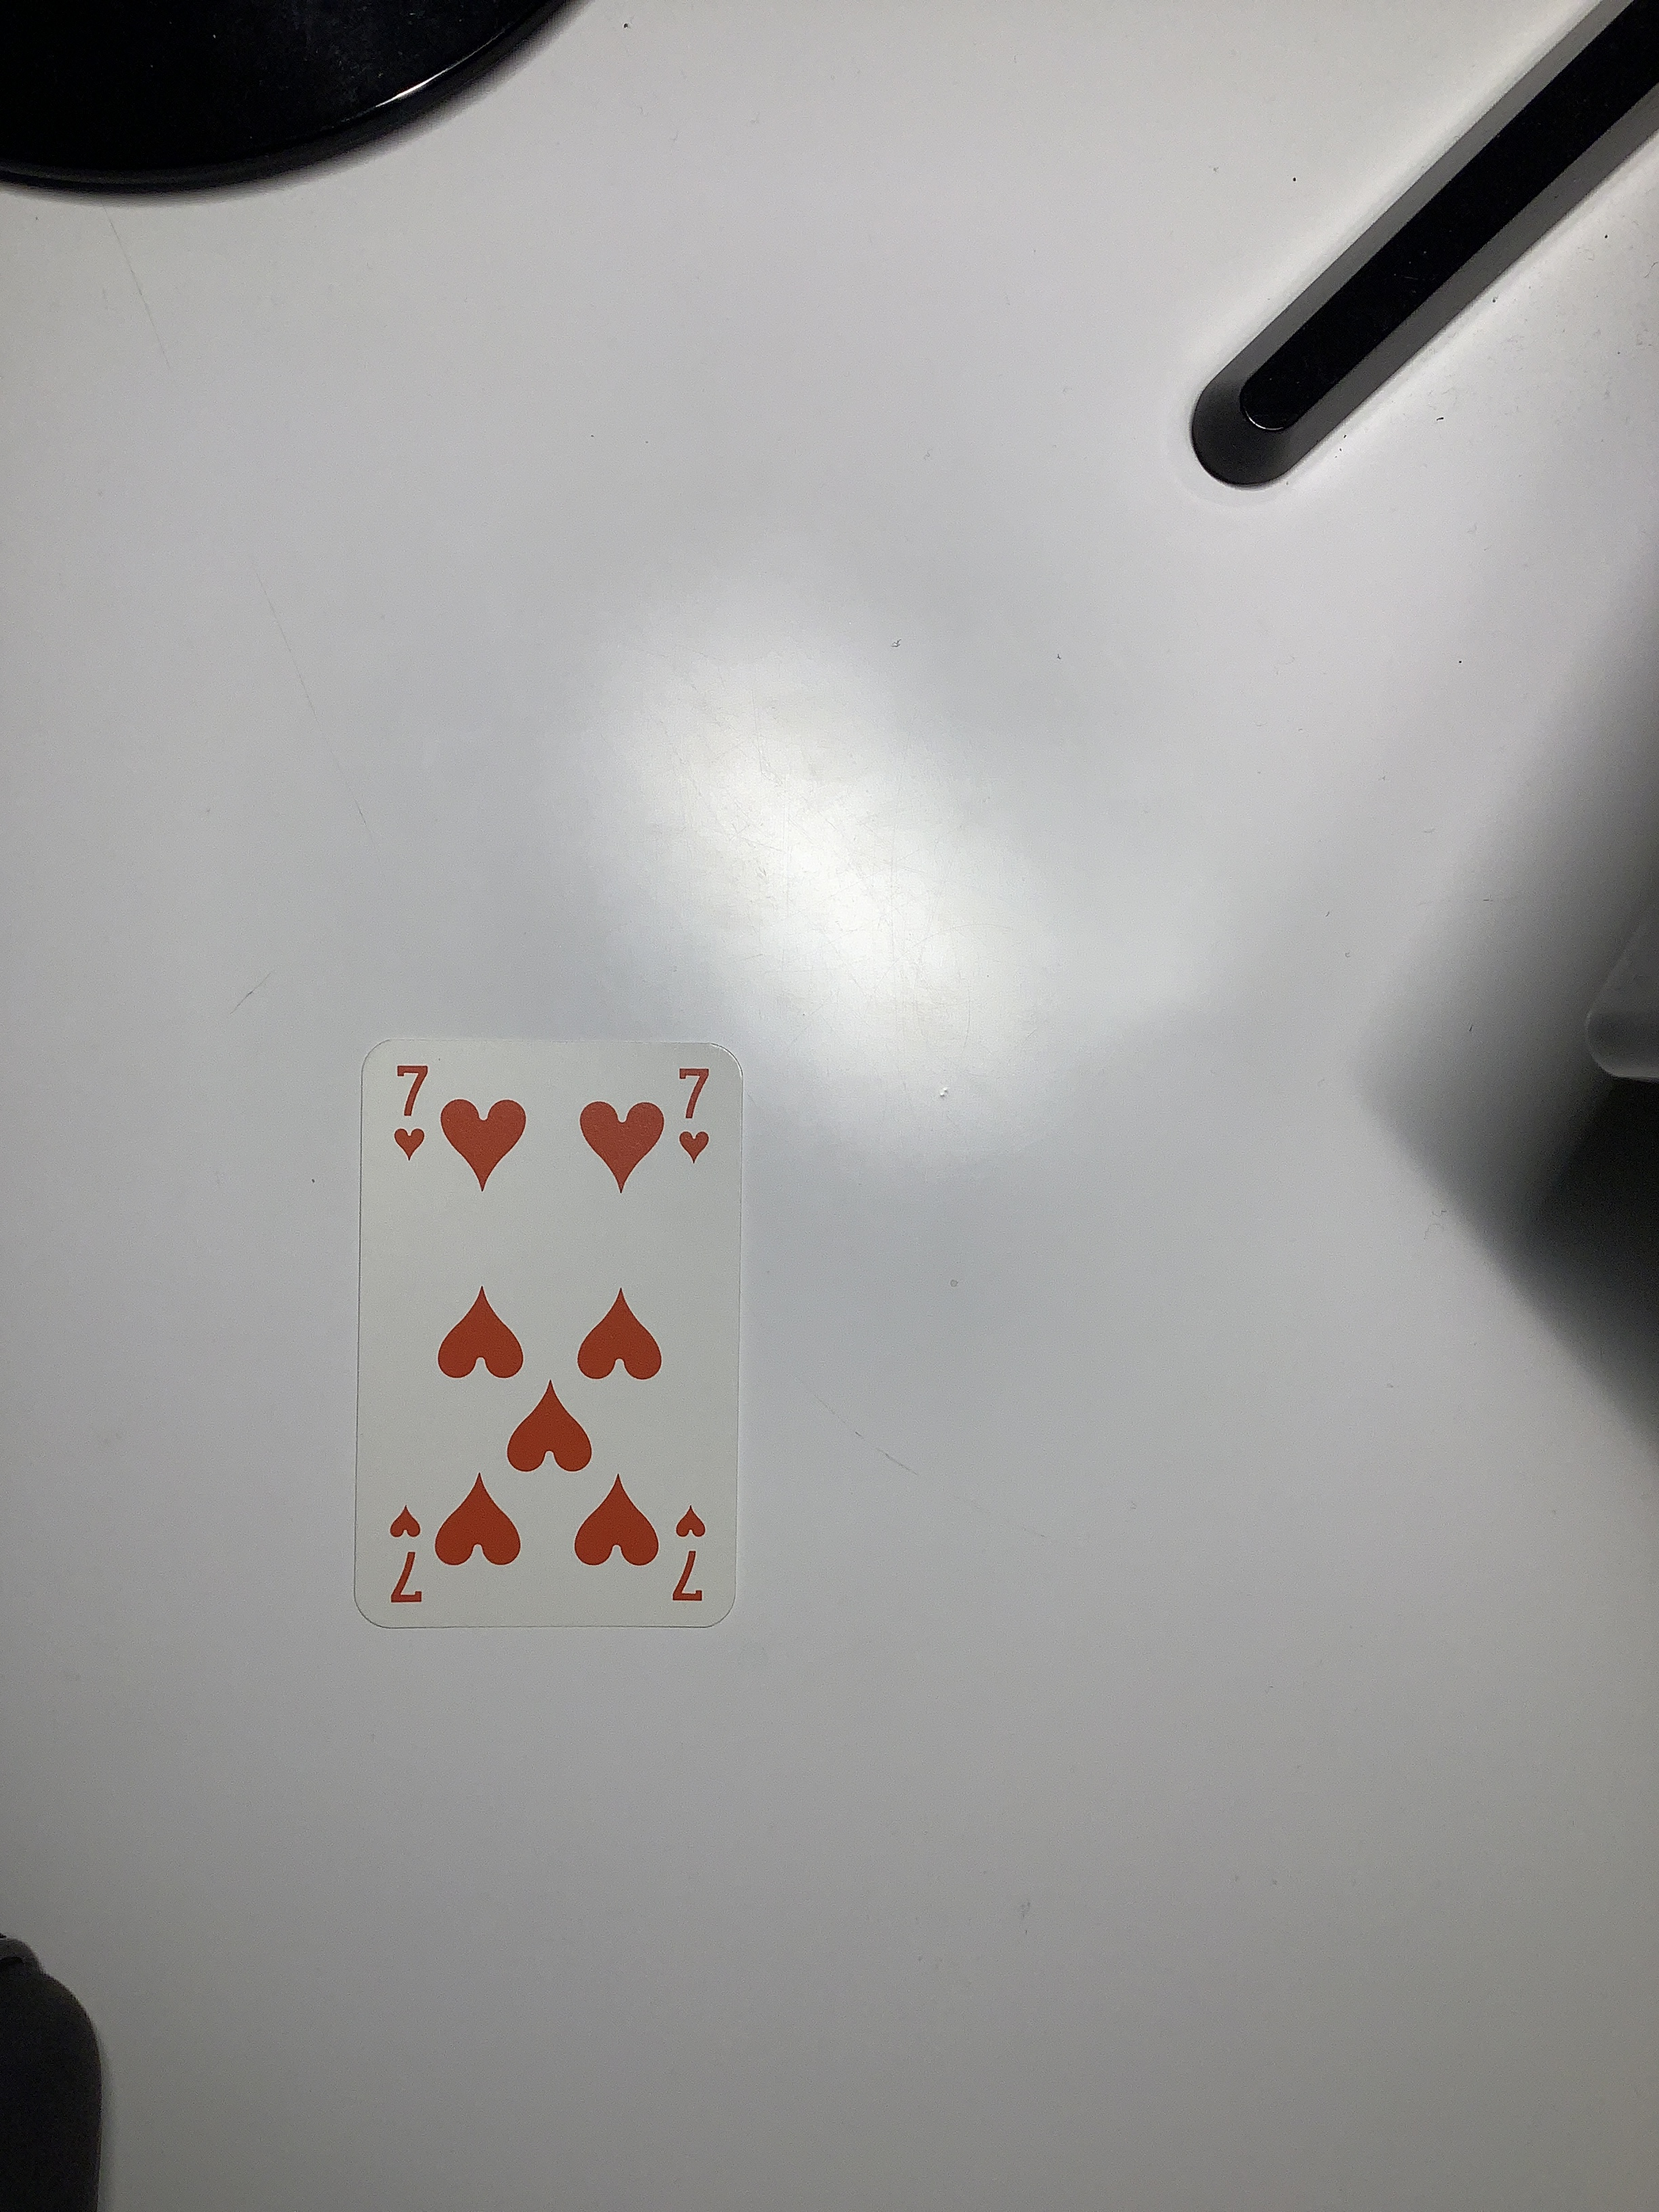♥ 7: (350, 1024, 756, 1649)
